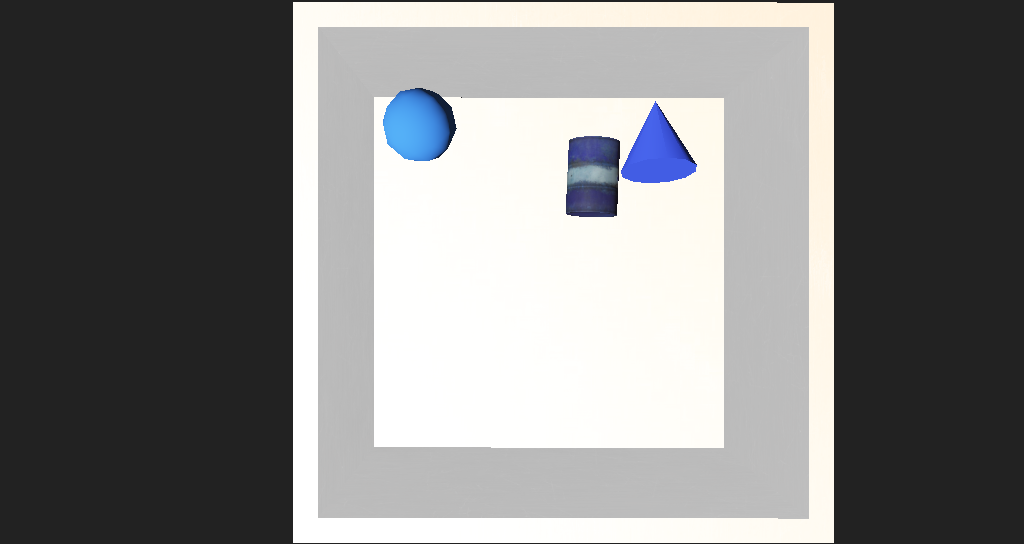cone: (522, 186, 569, 234)
cylinder: (566, 155, 633, 217)
sphere: (367, 160, 428, 203)
